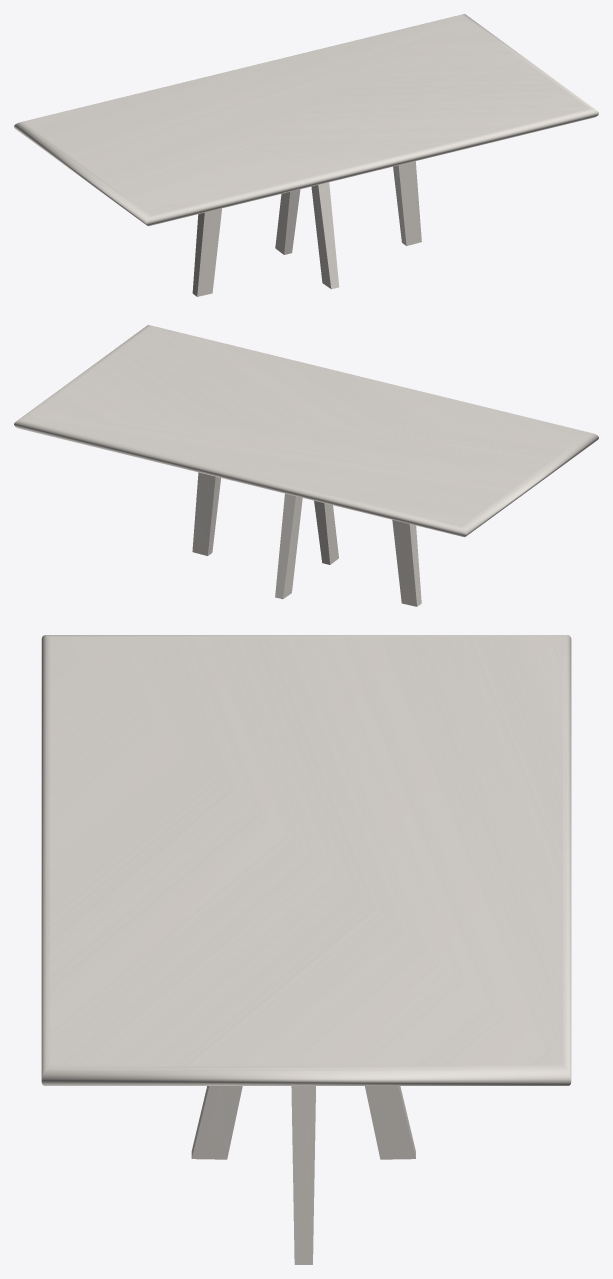
File: pearlwhite_recta_round_searwalnut.glb
The picture shows the model from 3 angles, top to bottom: view 1: azimuth 30°, elevation 25°; view 2: azimuth 150°, elevation 25°; view 3: azimuth 270°, elevation 25°; orthographic projection. The views are drawn at different scales.
Visible parts, largest first — view 1: round_recta, searwalnut; view 2: round_recta, searwalnut; view 3: round_recta, searwalnut.
Boxes of the visible parts, x1=… form: round_recta: x1=14, y1=14, x2=598, y2=226; searwalnut: x1=192, y1=161, x2=421, y2=296; round_recta: x1=14, y1=325, x2=598, y2=537; searwalnut: x1=192, y1=472, x2=421, y2=606; round_recta: x1=41, y1=635, x2=571, y2=1085; searwalnut: x1=191, y1=1086, x2=415, y2=1264.
Bounding box in the file's own units: 7.76 × 2.5 × 3.93.
1 material, 1 textured.
